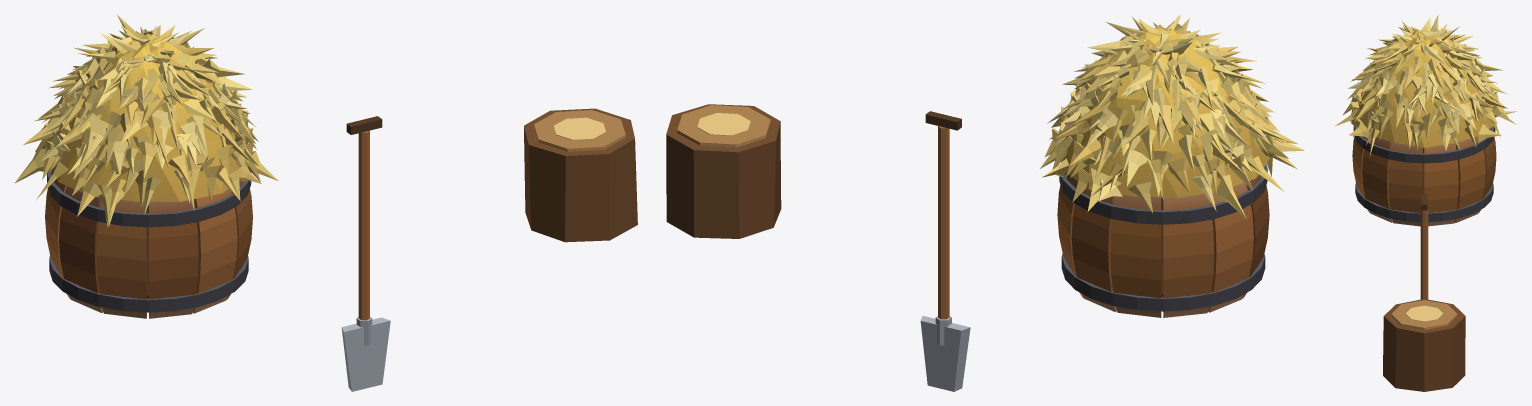
The model's file is style_A.glb.
3 renders of one model, left to right at view 1: azimuth 30°, elevation 25°; view 2: azimuth 150°, elevation 25°; view 3: azimuth 270°, elevation 25°, orthographic. The views are drawn at different scales.
Visible parts, largest first — view 1: StyleA_HayBarrel, StyleA_Log, StyleA_Shovel; view 2: StyleA_HayBarrel, StyleA_Log, StyleA_Shovel; view 3: StyleA_HayBarrel, StyleA_Log, StyleA_Shovel.
Part boxes in pixels (x1,y1,x2,y2): StyleA_HayBarrel: (14, 14, 278, 318); StyleA_Log: (524, 108, 637, 242); StyleA_Shovel: (341, 116, 390, 391); StyleA_HayBarrel: (1040, 14, 1304, 317); StyleA_Log: (666, 104, 781, 238); StyleA_Shovel: (920, 111, 970, 391); StyleA_HayBarrel: (1335, 14, 1517, 226); StyleA_Log: (1383, 299, 1465, 391); StyleA_Shovel: (1420, 194, 1428, 299).
Size of the model in its own units: 3.05 by 1.99 by 1.17.
